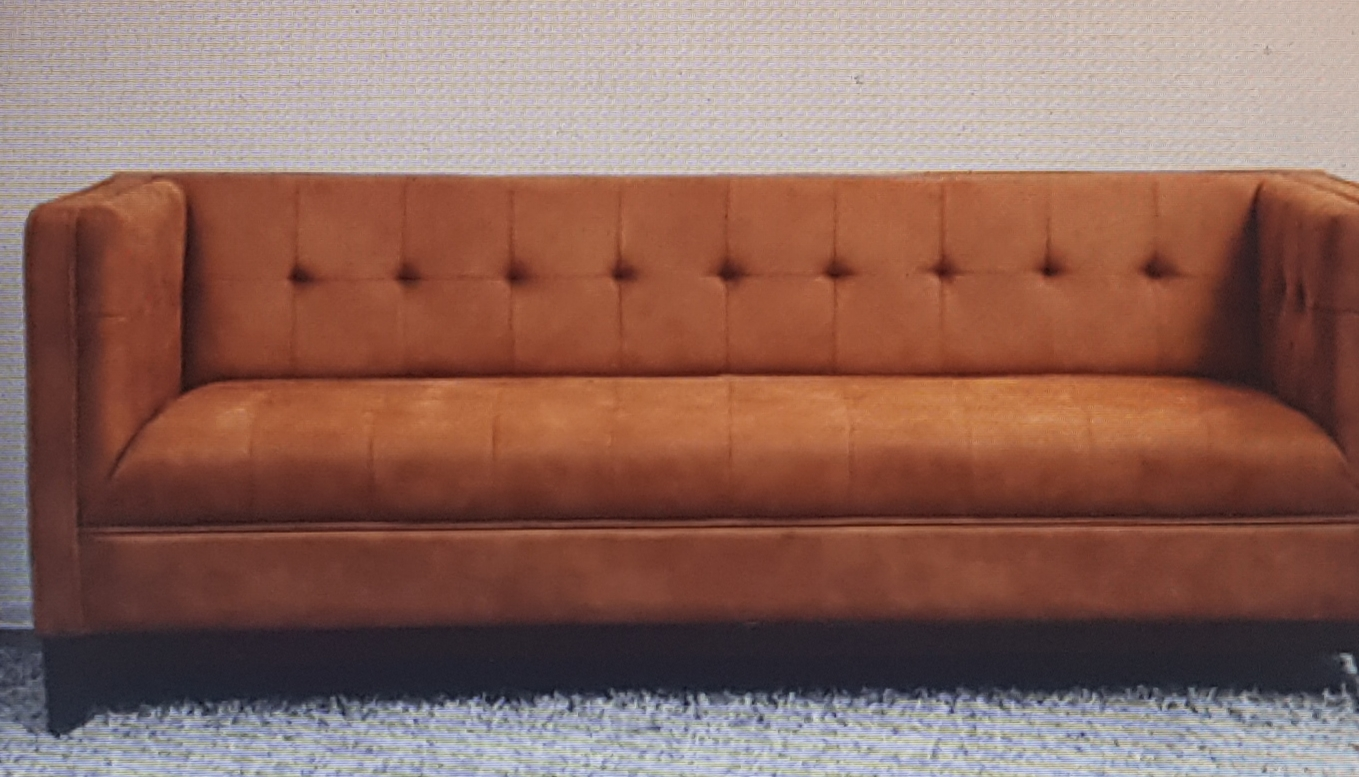Brown: (25, 162, 1359, 640)
